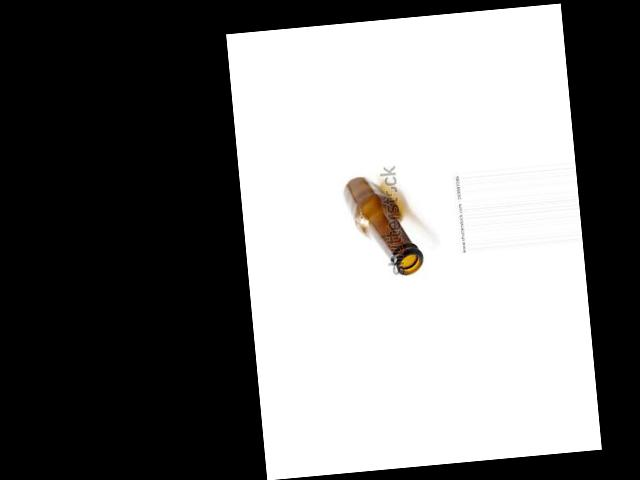beer: (343, 171, 425, 280)
